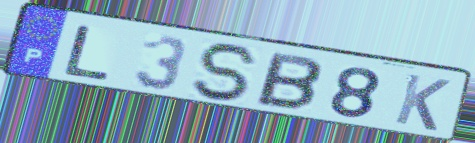3: (134, 35, 186, 93)
8: (330, 66, 382, 119)
B: (252, 49, 325, 113)
K: (391, 71, 453, 134)
L: (61, 23, 115, 83)
S: (191, 42, 263, 104)
